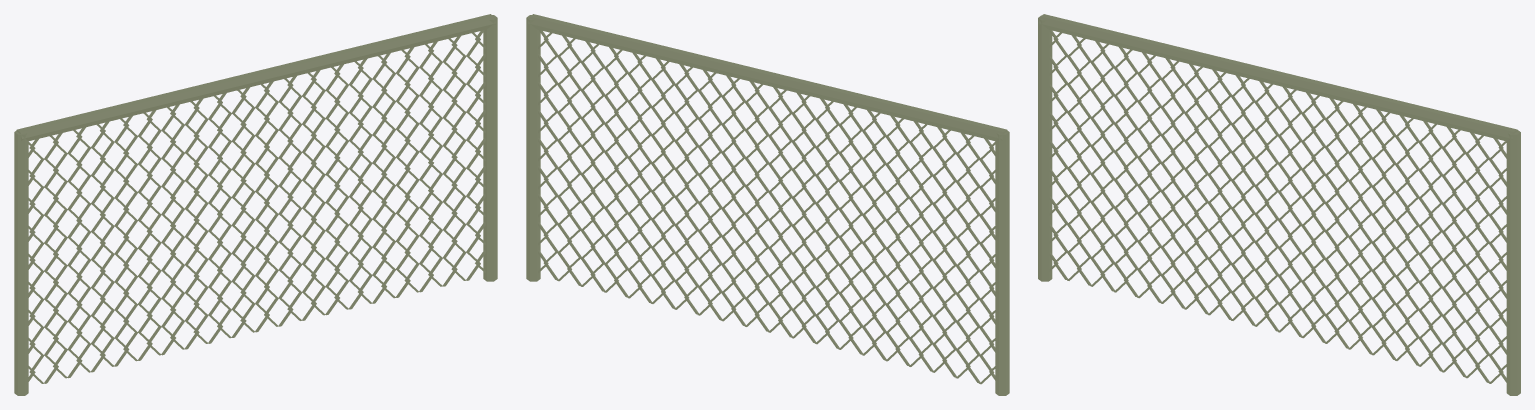
Rendered from chain link fence.fbx.
3 renders of one model, left to right at view 1: azimuth 30°, elevation 25°; view 2: azimuth 150°, elevation 25°; view 3: azimuth 330°, elevation 25°, orthographic.
Parts seen in each view (by area): view 1: fence unit; view 2: fence unit; view 3: fence unit.
Part boxes in pixels (x1,y1,x2,y2): fence unit: (14,14,497,395); fence unit: (526,14,1009,395); fence unit: (1038,14,1520,395).
Size of the model in its own units: 1125 by 590 by 28.79.
